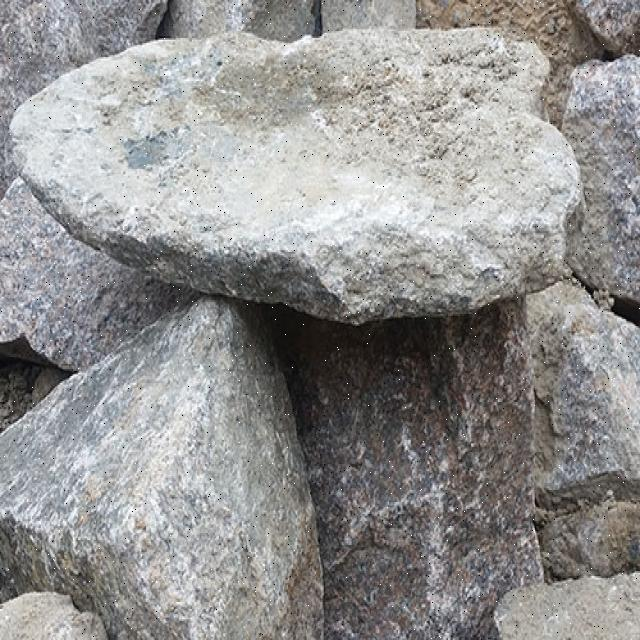Igneous: (4, 21, 596, 319)
